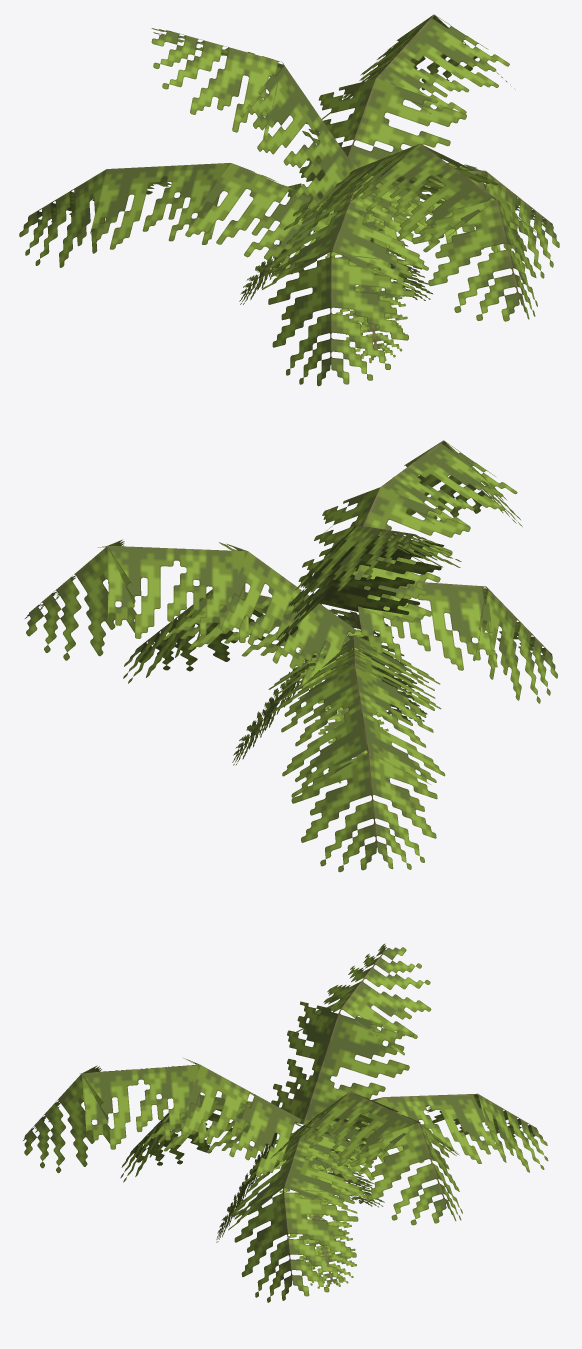
The model's file is palm_top_1.obj.
3 renders of one model, top to bottom at view 1: azimuth 30°, elevation 25°; view 2: azimuth 150°, elevation 25°; view 3: azimuth 270°, elevation 25°, orthographic. The views are drawn at different scales.
Visible parts, largest first — view 1: cube.300, cube.323, cube.299; view 2: cube.323, cube.299, cube.300; view 3: cube.299, cube.323, cube.300.
Boxes of the visible parts, x1,y1,x2,y2 form: cube.300: (262,143,539,386); cube.323: (19,28,355,304); cube.299: (287,14,559,300); cube.323: (268,525,461,872); cube.299: (25,539,355,765); cube.300: (297,440,557,722); cube.299: (228,1091,462,1302); cube.323: (268,943,548,1207); cube.300: (23,1058,301,1242).
Size of the model in its own units: 4.72 by 3.01 by 5.57.
